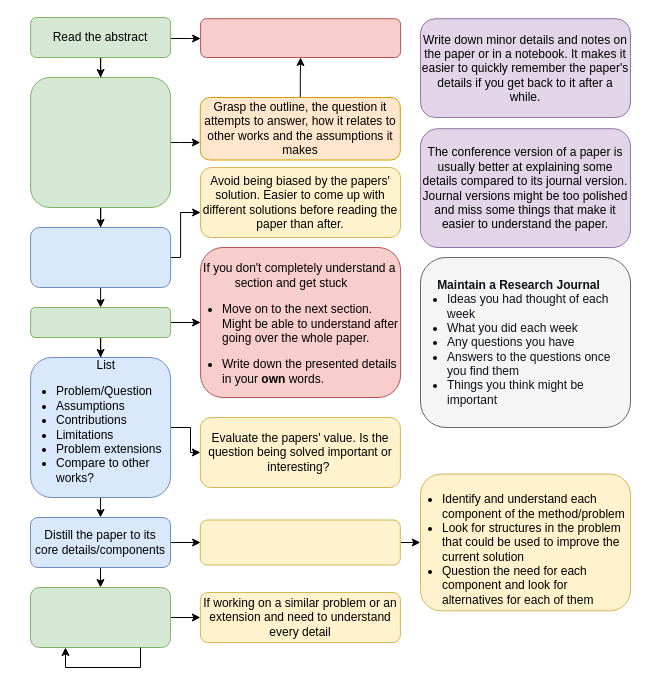
Image size: 649x693. Some labels were removed from this diagram. Each missing label, with the centre of its shape:
"Decide if the paper is relevant and if you want to keep reading" goes at point (300, 38).
"List your own potential solutions to the problem" goes at point (100, 257).
"Read all sections" goes at point (100, 322).
"Read Introduction Related works Section Titles Figures Math Conclusion" goes at point (100, 142).
"Read the whole paper again and workout the proofs" goes at point (100, 617).
"Will make it easier to remember the paper and its details" goes at point (299, 542).
